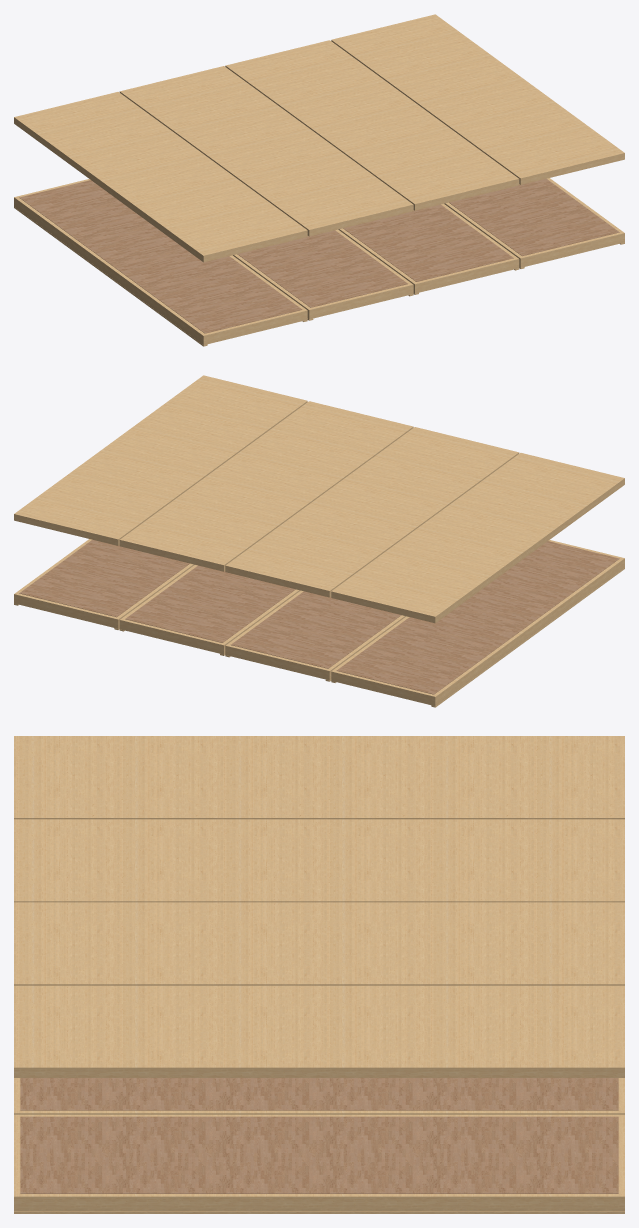
Rendered from Horisontaalkonst.glb.
3 renders of one model, top to bottom at view 1: azimuth 30°, elevation 25°; view 2: azimuth 150°, elevation 25°; view 3: azimuth 270°, elevation 25°, orthographic. The views are drawn at different scales.
Visible parts, largest first — view 1: Lae-element_040 (×4), Porandakate_040 (×4), Poranda-element_040 (×4); view 2: Lae-element_040 (×4), Porandakate_040 (×4), Poranda-element_040 (×4); view 3: Lae-element_040 (×4), Porandakate_040 (×2), Poranda-element_040 (×2), Pruss 45x145_450.
Part boxes in pixels (bbox=[...]): Lae-element_040 (×4): bbox=[14, 14, 624, 262]; Porandakate_040 (×4): bbox=[19, 178, 619, 333]; Poranda-element_040 (×4): bbox=[14, 178, 624, 345]; Lae-element_040 (×4): bbox=[14, 375, 624, 623]; Porandakate_040 (×4): bbox=[19, 539, 619, 694]; Poranda-element_040 (×4): bbox=[14, 539, 624, 706]; Lae-element_040 (×4): bbox=[14, 736, 624, 1077]; Porandakate_040 (×2): bbox=[20, 1078, 618, 1193]; Poranda-element_040 (×2): bbox=[14, 1078, 624, 1211]; Pruss 45x145_450: bbox=[14, 1211, 624, 1213].
Bounding box in the file's own units: 15.15 × 3.12 × 11.8.
2 materials, 2 textured.
